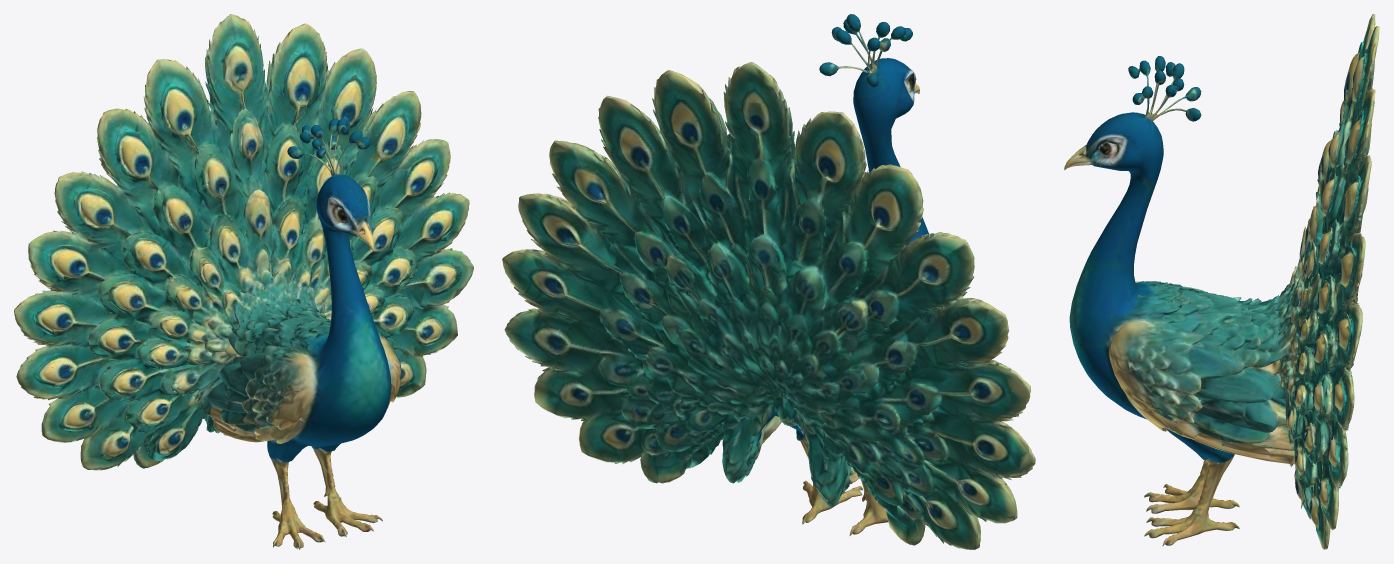
The picture shows the model from 3 angles, left to right: view 1: azimuth 30°, elevation 25°; view 2: azimuth 150°, elevation 25°; view 3: azimuth 270°, elevation 25°; orthographic projection. The views are drawn at different scales.
Visible parts, largest first — view 1: node_id4; view 2: node_id4; view 3: node_id4.
Part boxes in pixels (x1=…): node_id4: x1=14, y1=14, x2=473, y2=549; node_id4: x1=502, y1=14, x2=1035, y2=549; node_id4: x1=1064, y1=14, x2=1379, y2=549.
Size of the model in its own units: 0.512 by 0.4821 by 0.2791.
Materials: 1 (1 with a texture image).
